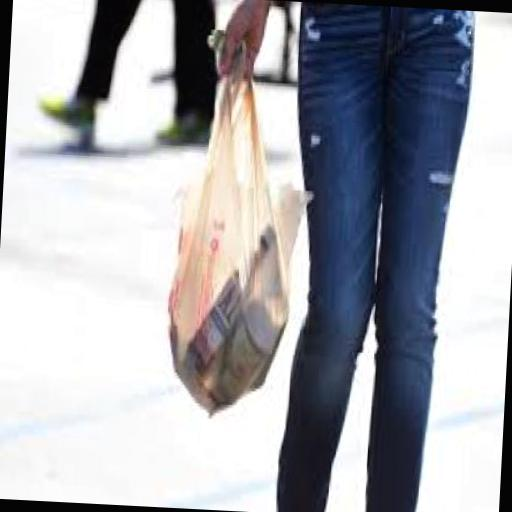plastic: (159, 28, 320, 418)
